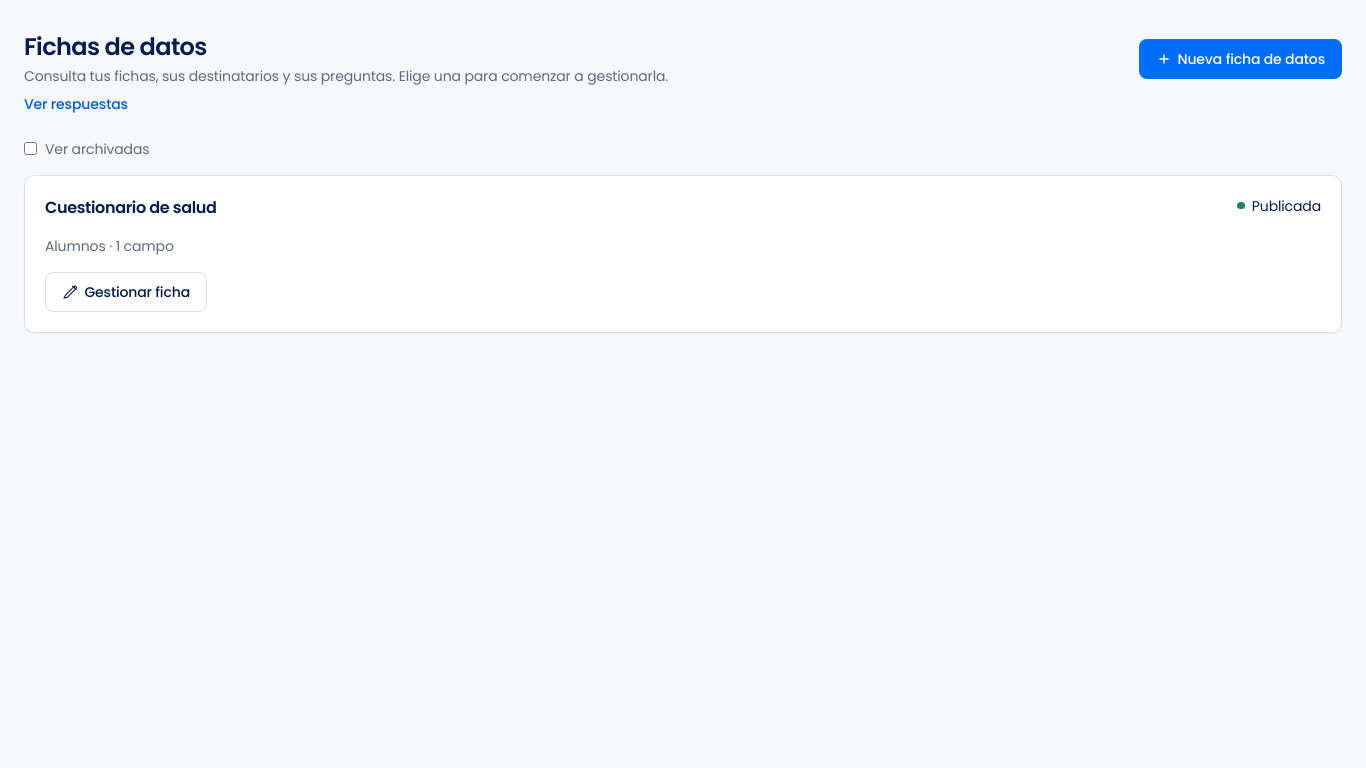
Test: alta de fichas sin estorbar al diseñador › primero lista las fichas y solo abre la gestión al elegirla explícitamente
Expected: the text "Contacto de emergencia" is not shown
Click the button with aria-label "Gestionar ficha: Cuestionario de salud". click: click(126, 292)
box: [45, 272, 207, 312]
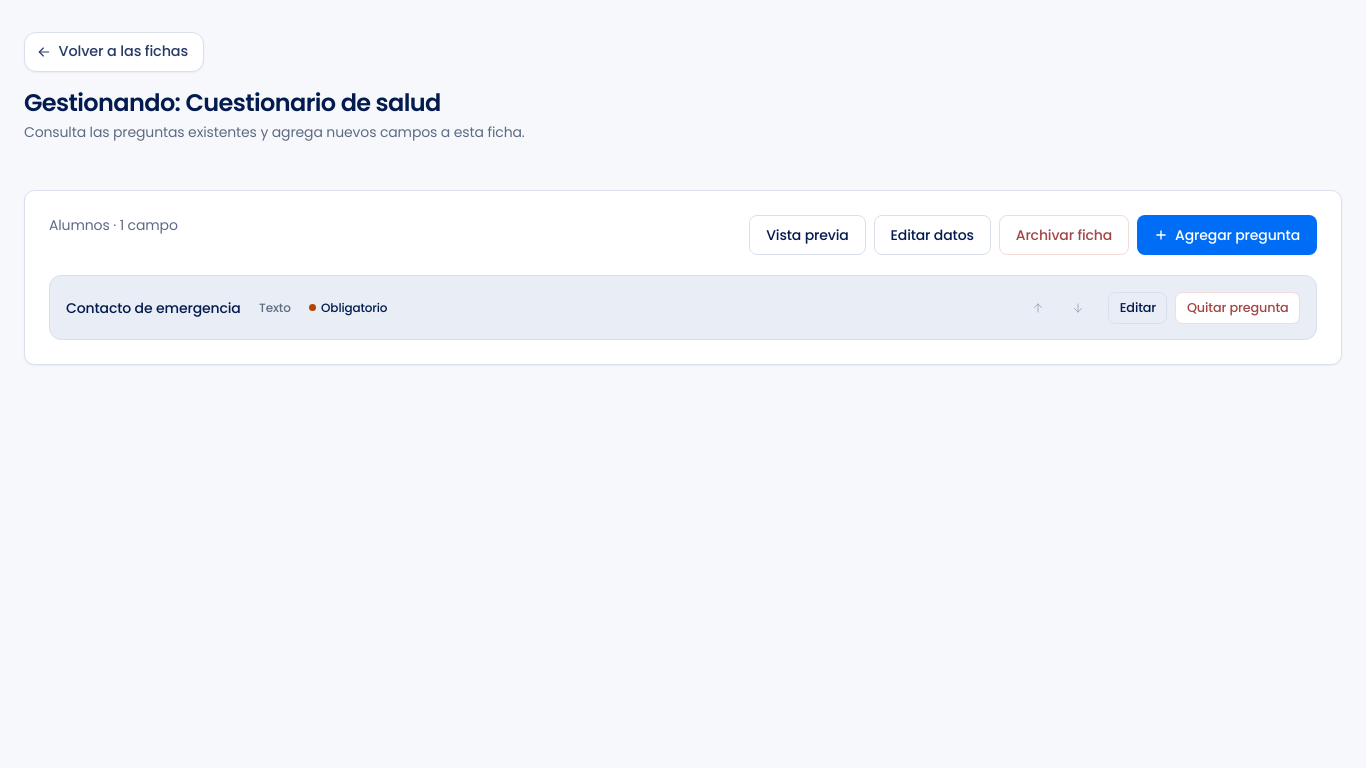
Now the text "Gestionando: Cuestionario de salud" is shown, box [24, 86, 441, 119]
Now the text "Contacto de emergencia" is shown, box [66, 298, 241, 318]
Click the button "Agregar pregunta". click: click(1227, 235)
box: [1137, 215, 1317, 255]
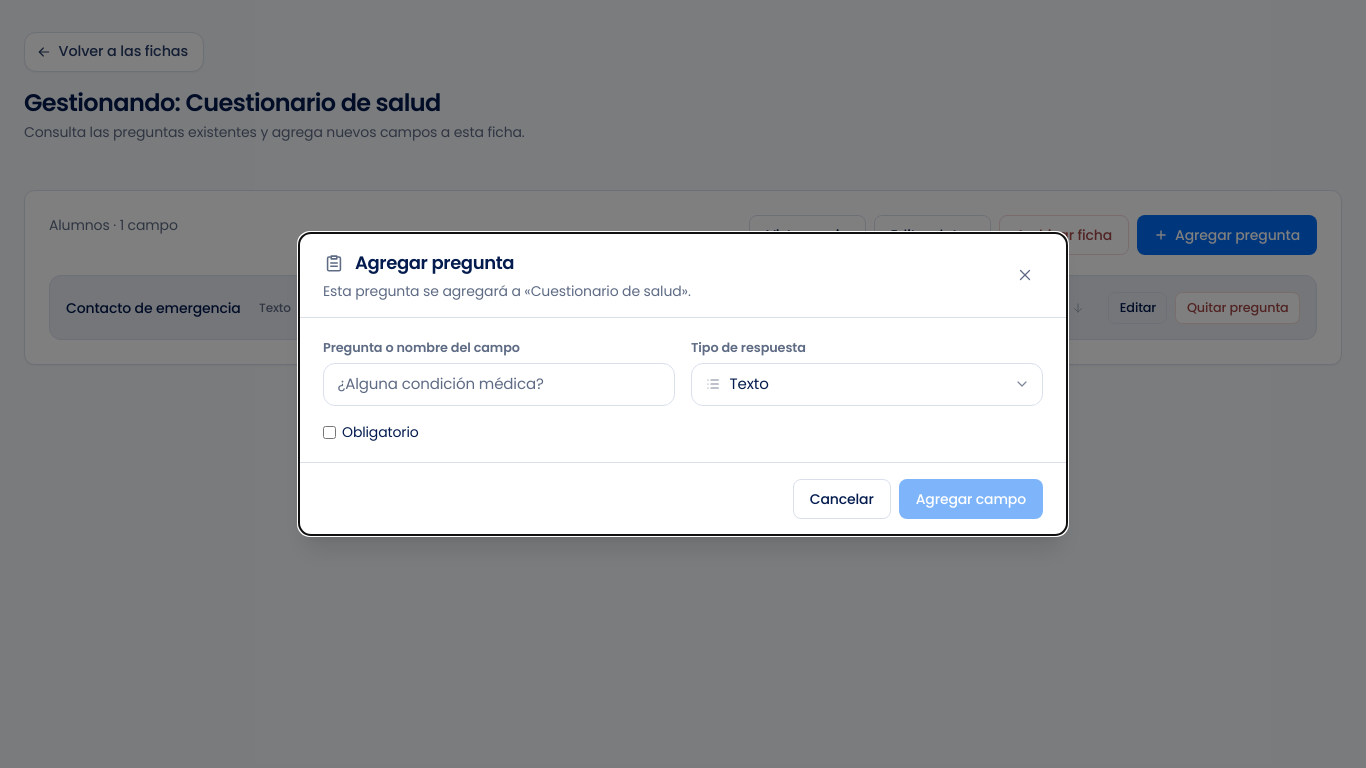
Now the dialog shows "«Cuestionario de salud»", box [323, 281, 691, 301]
Type "Alergias" into the field labelled "Pregunta o nombre del campo". click: (499, 384)
box: [323, 362, 675, 406]
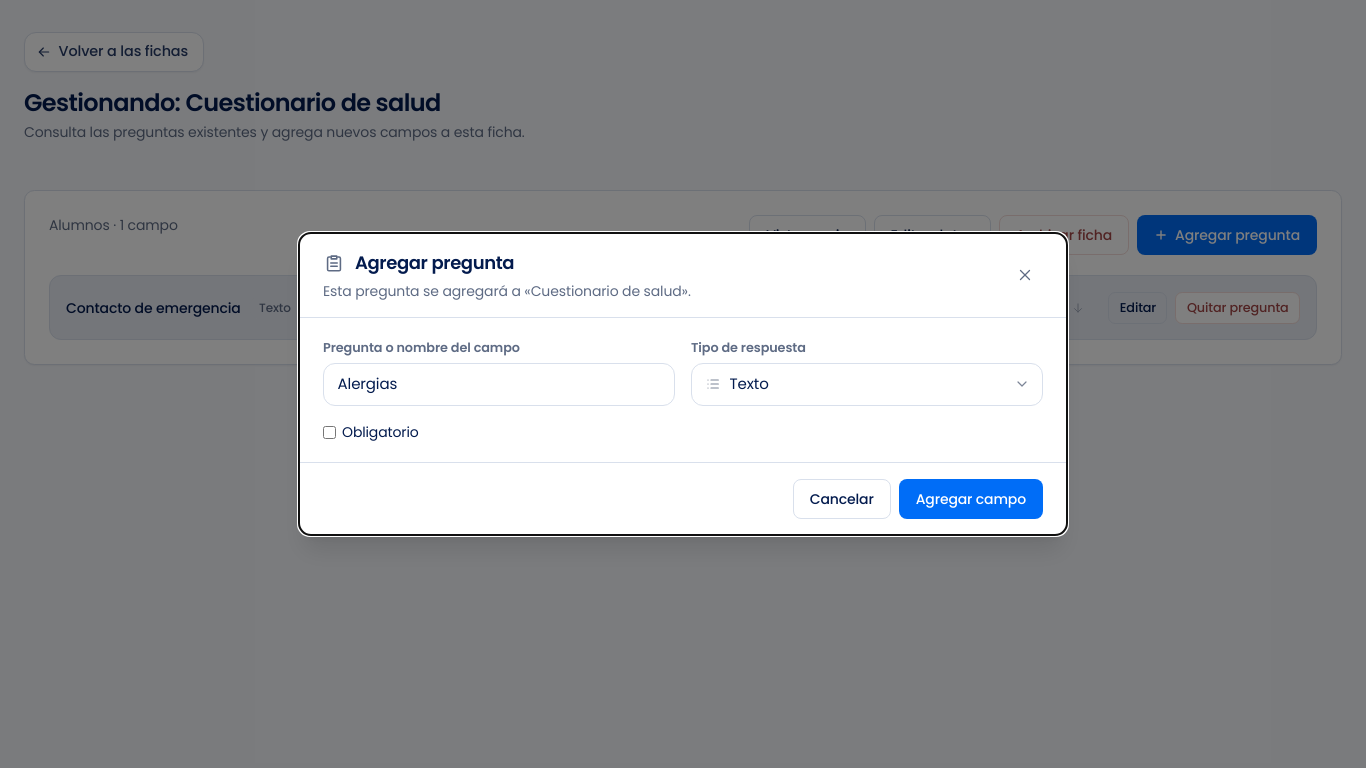
Submit the form, box [323, 338, 1043, 442]
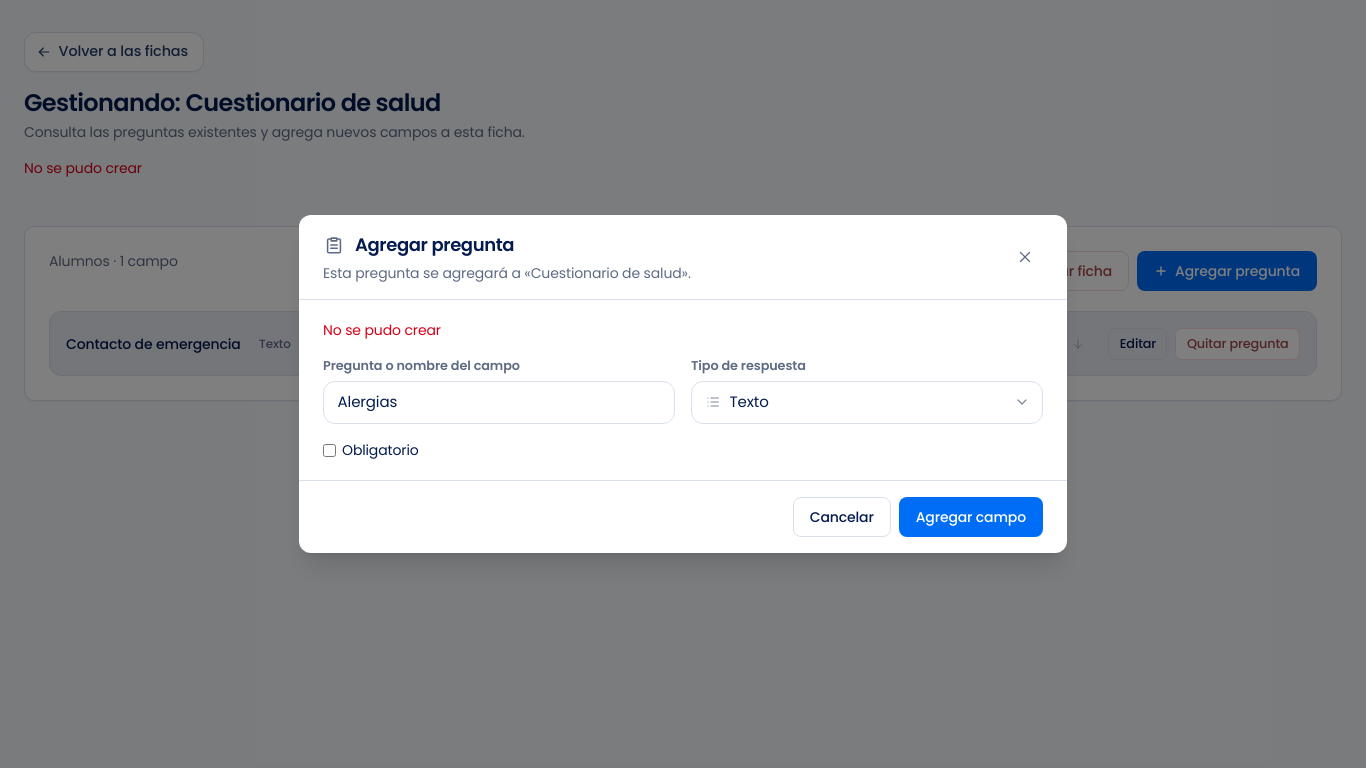
Now the field labelled "Pregunta o nombre del campo" holds "Alergias", box [323, 380, 675, 424]
Now the dialog shows "No se pudo crear", box [323, 320, 441, 340]
Click the button "Cancelar". click: click(842, 517)
box: [793, 497, 891, 537]
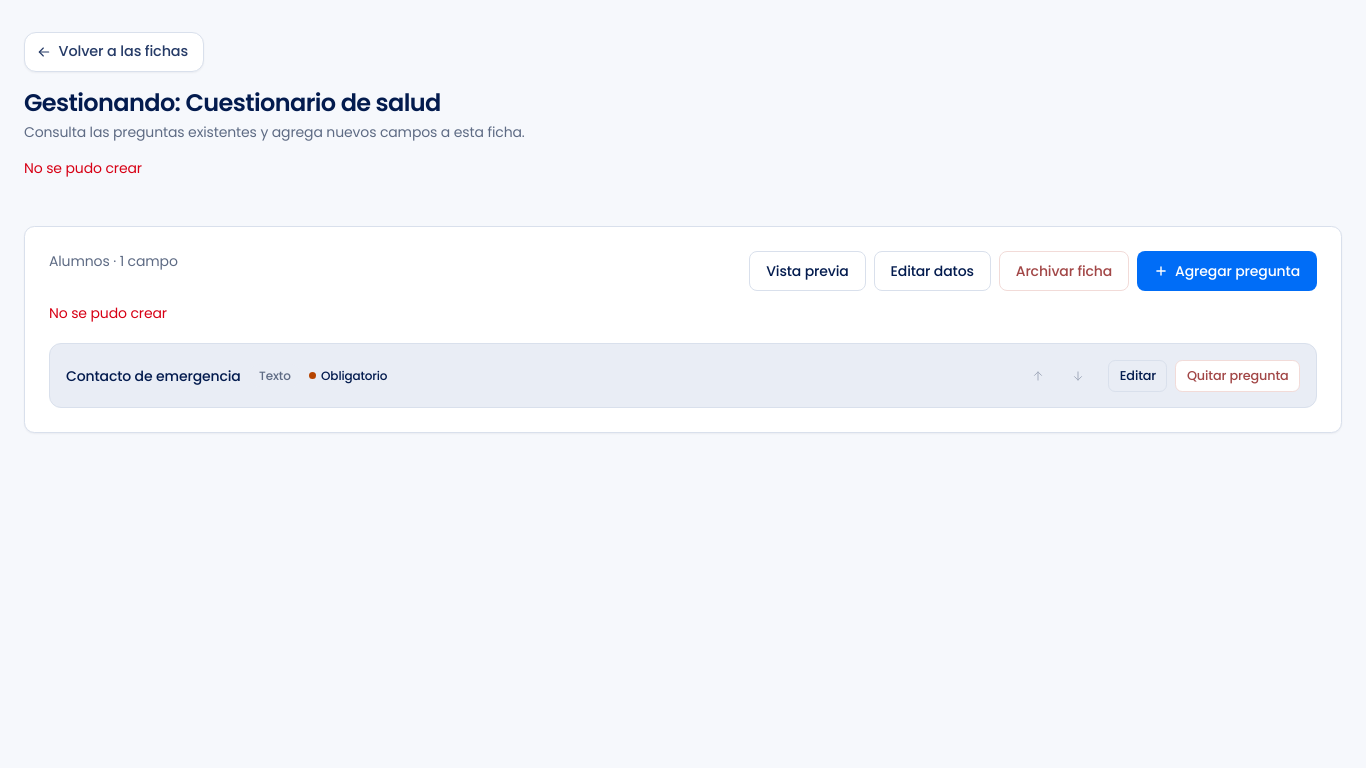
Click the button "Volver a las fichas". click: click(114, 52)
box: [24, 32, 204, 72]
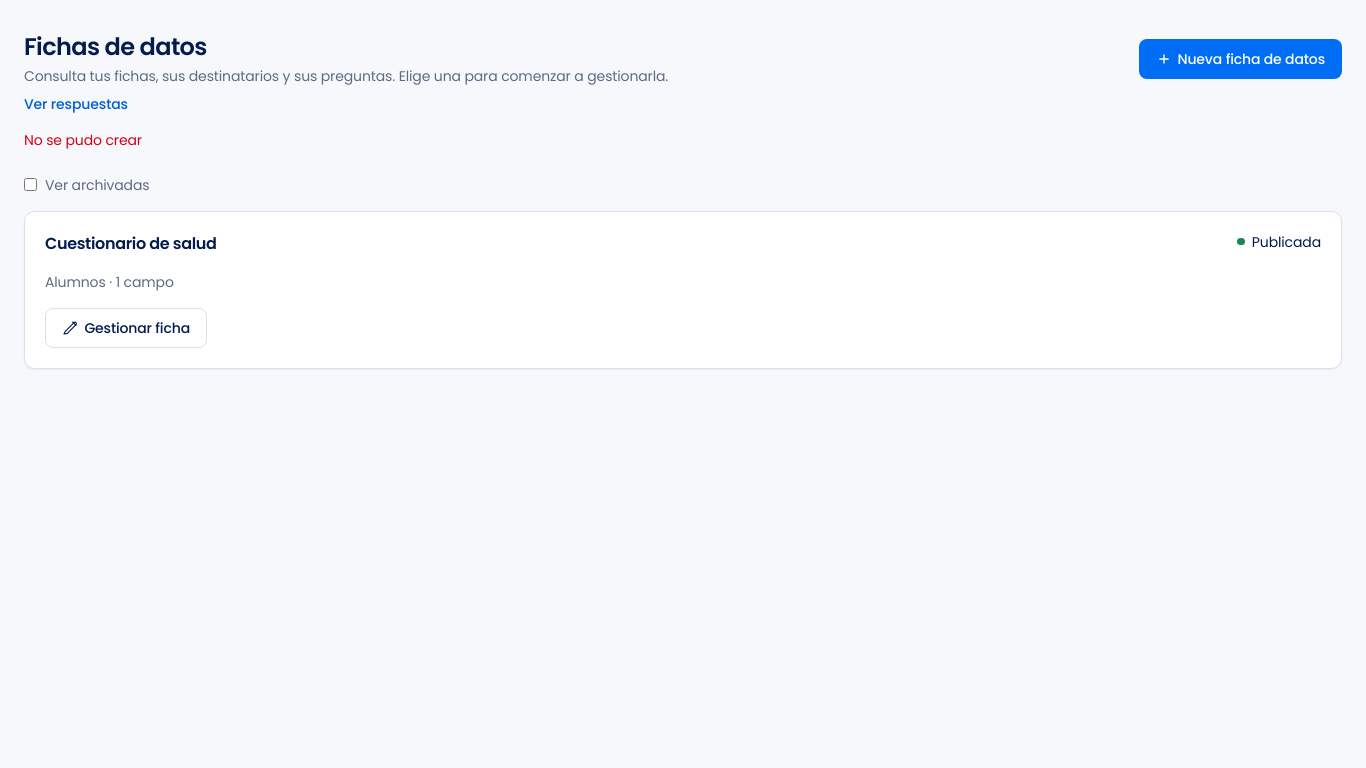
Now the button with aria-label "Gestionar ficha: Cuestionario de salud" is shown, box [45, 308, 207, 348]
Now the text "Contacto de emergencia" is gone
